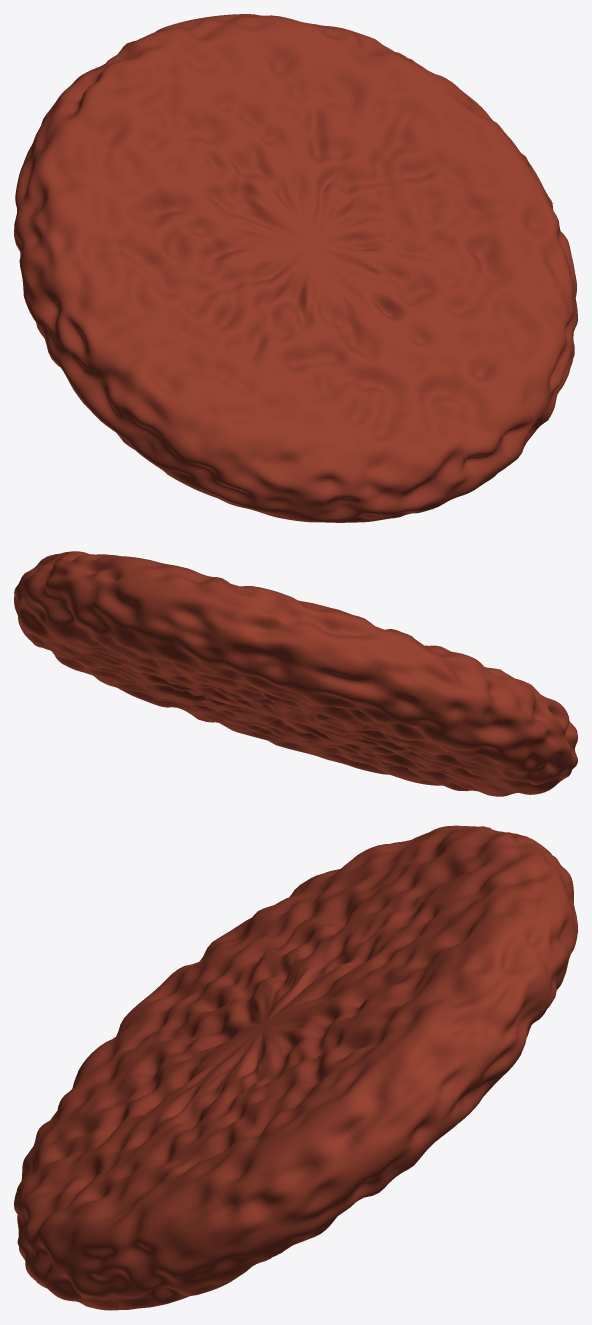
Rendered from Et burger 1.fbx.
The picture shows the model from 3 angles, top to bottom: view 1: azimuth 30°, elevation 25°; view 2: azimuth 150°, elevation 25°; view 3: azimuth 270°, elevation 25°; orthographic projection. The views are drawn at different scales.
Visible parts, largest first — view 1: Cube.070; view 2: Cube.070; view 3: Cube.070.
Part boxes in pixels (box(x1,y1,x2,y2)): Cube.070: box(14, 14, 577, 522); Cube.070: box(14, 551, 577, 796); Cube.070: box(14, 825, 577, 1310).
Size of the model in its own units: 13.12 by 8.43 by 11.
